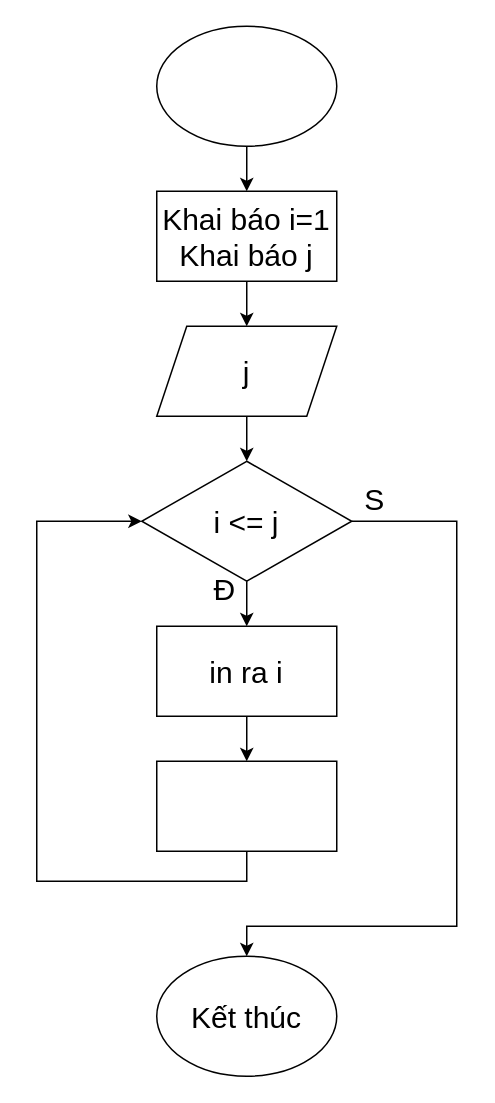
This 495x1103 diagram has some shape labels left out. The shapes that lost their labels are listed below. From the top down, each one's box as (x1, y1, x2, y2) in pixels, then its label:
(155, 25, 337, 146): Bắt đầu
(155, 760, 337, 851): i++
